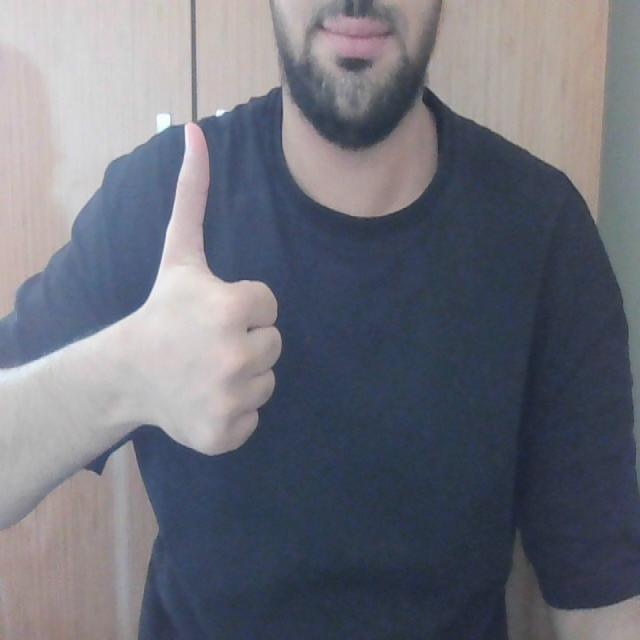Tamam: (132, 120, 288, 458)
